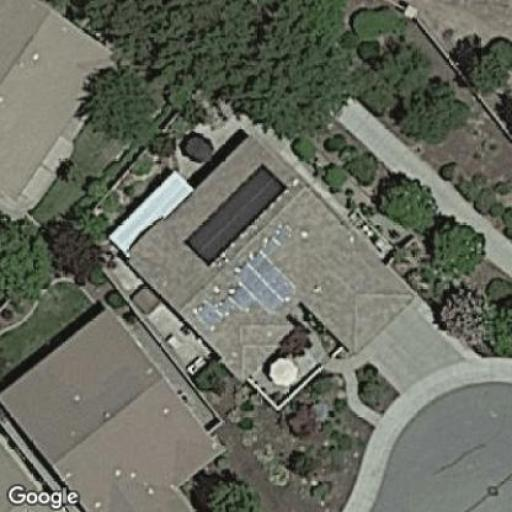solar-panel: (180, 164, 286, 267), (197, 226, 299, 324)
